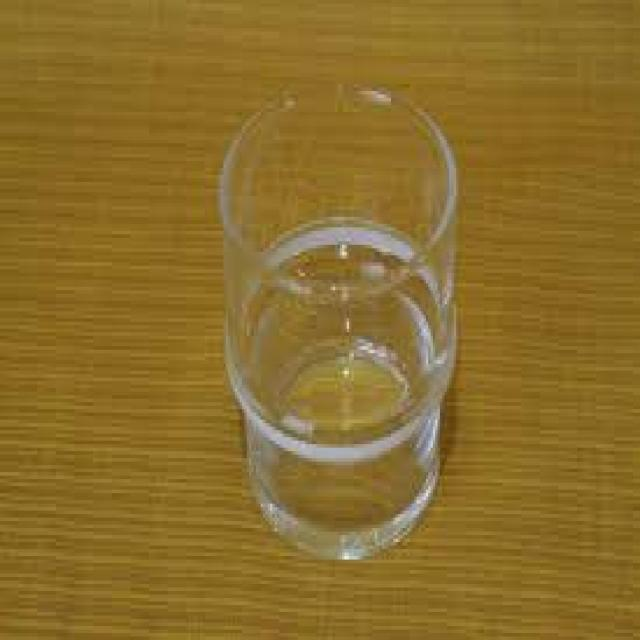glass: (214, 77, 454, 553)
